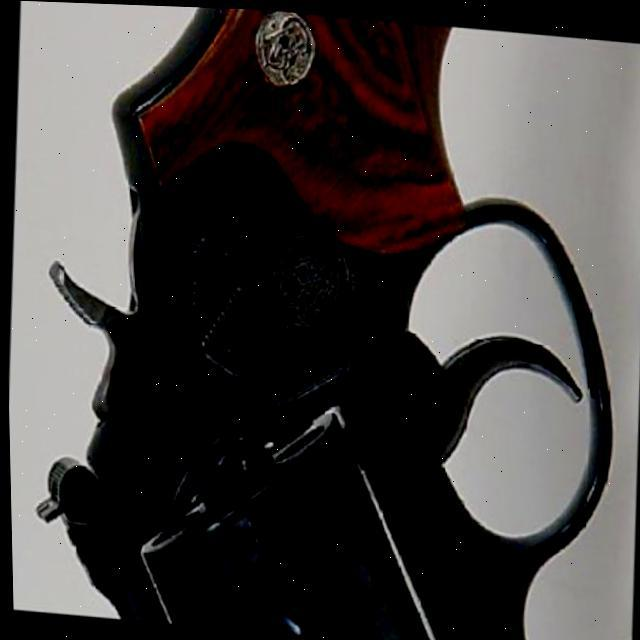gun: (18, 1, 638, 640)
